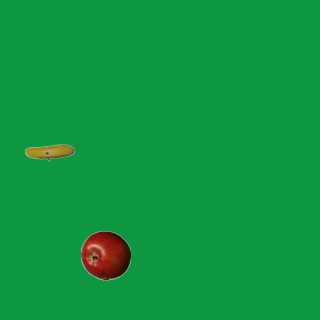Apple Braeburn: (80, 230, 130, 280)
Banana: (24, 127, 74, 177)
